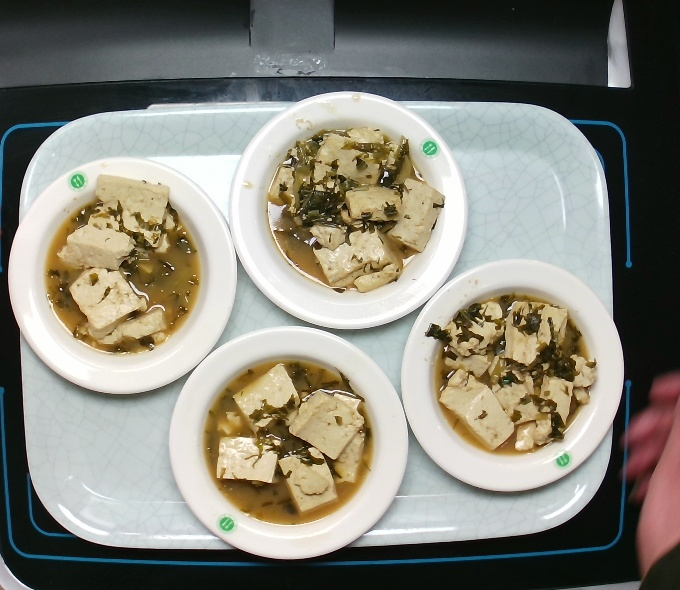wcq-XueCaiDouFu: (263, 123, 448, 298), (200, 350, 379, 527), (40, 170, 207, 357), (423, 289, 598, 459)
